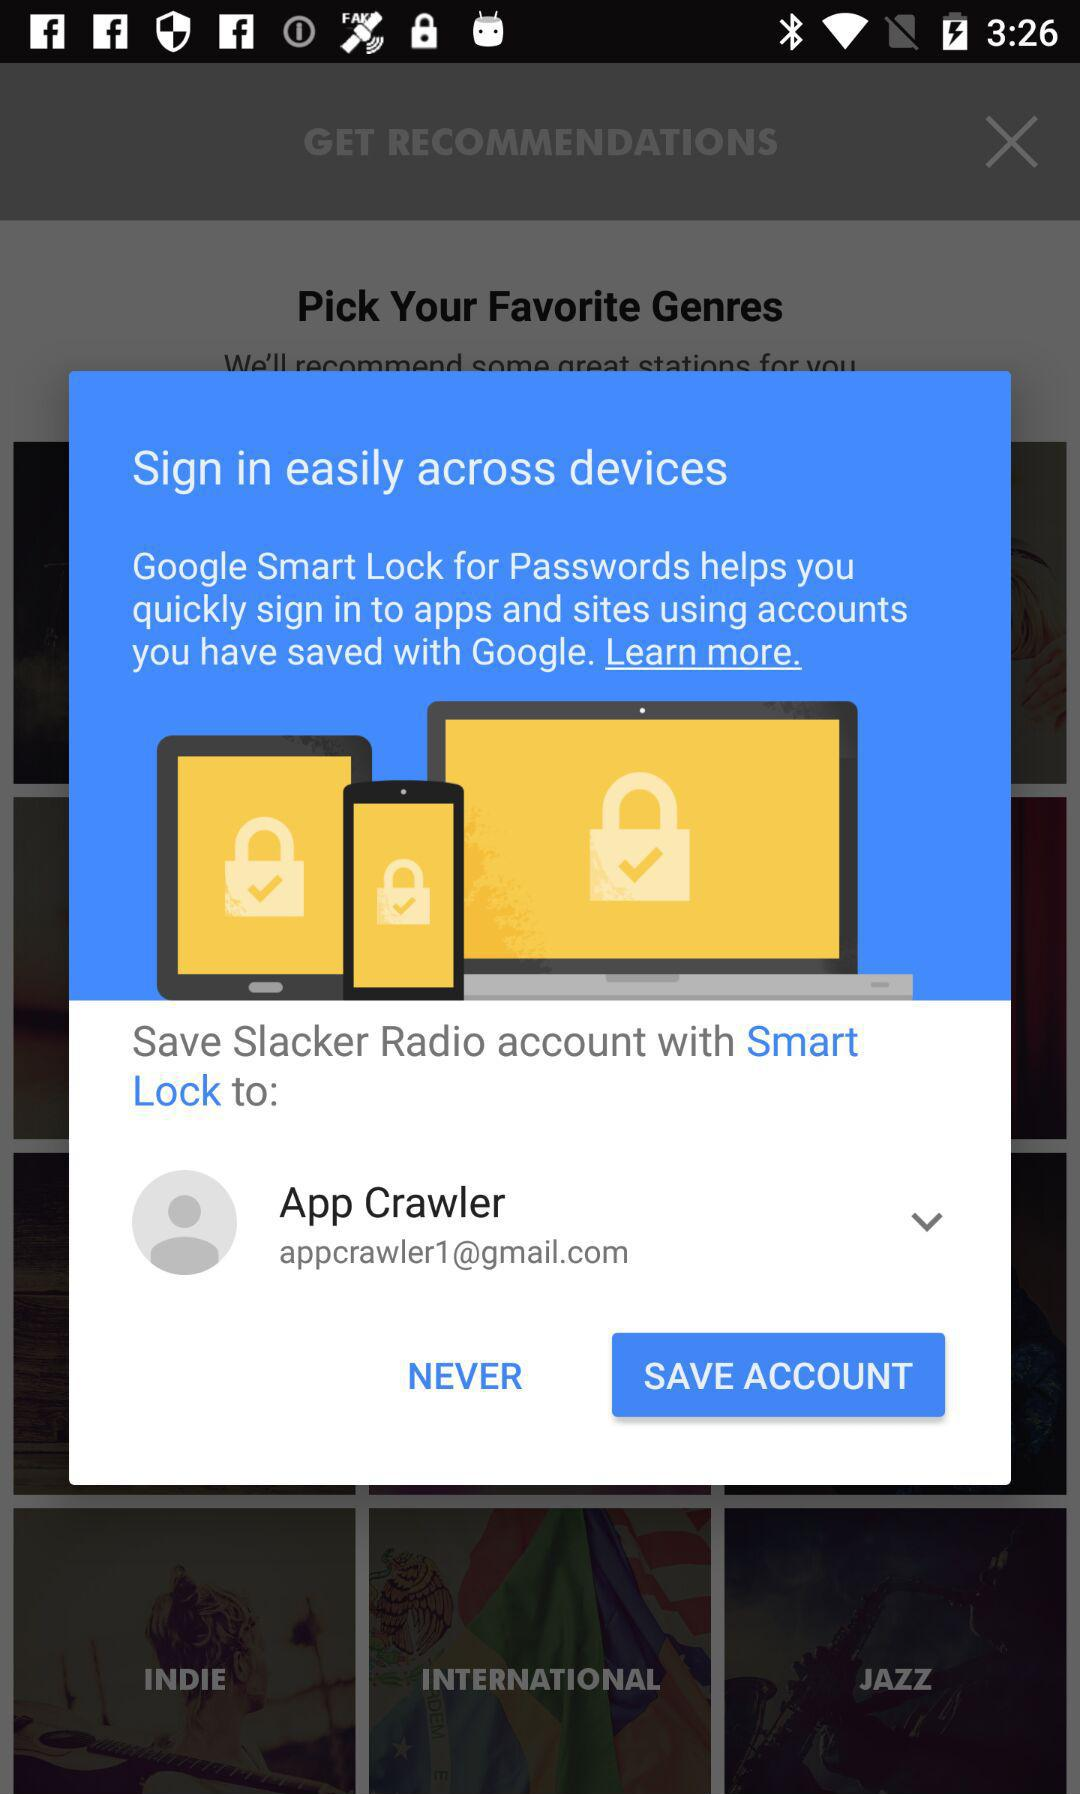Icon: (132, 1169, 240, 1276), (984, 115, 1040, 170), (910, 1211, 944, 1233)
Image: (156, 700, 913, 1001)
Modal: (69, 372, 1012, 1486)
Text: (131, 548, 910, 675), (133, 1023, 860, 1108), (133, 448, 728, 497), (299, 290, 784, 324), (302, 128, 776, 158), (281, 1238, 629, 1272), (281, 1185, 507, 1228), (421, 1668, 661, 1691), (409, 1361, 524, 1392), (143, 1668, 227, 1691), (858, 1668, 933, 1691)
TextButton: (611, 1331, 945, 1419)
UpperTaskBar: (1, 1, 1080, 64)
